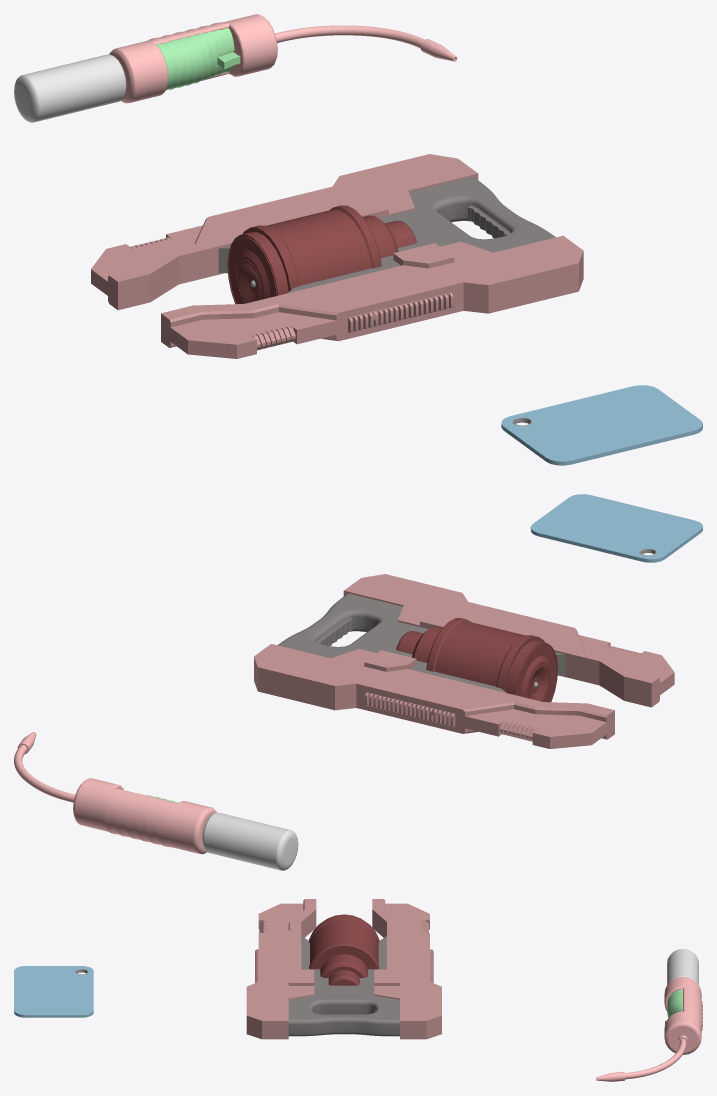
File: Item-Group.fbx
The picture shows the model from 3 angles, top to bottom: view 1: azimuth 30°, elevation 25°; view 2: azimuth 150°, elevation 25°; view 3: azimuth 270°, elevation 25°; orthographic projection. The views are drawn at different scales.
Parts seen in each view (by area): view 1: Laser_Side_Main (×2), Laser_Main_1, ID_Card_Main, Glue_Main1, Laser_Main_2, Glue_Material1, Glue_Handle, Laser_Side_Part; view 2: Laser_Side_Main (×2), Laser_Main_1, Glue_Main1, ID_Card_Main, Laser_Main_2, Glue_Material1, Laser_Side_Part; view 3: Laser_Side_Main (×2), Laser_Main_2, ID_Card_Main, Laser_Main_1, Glue_Main1, Glue_Material1, Glue_Handle.
Part boxes in pixels (x1,y1,x2,y2): Laser_Side_Main (×2): (91, 154, 583, 358); Laser_Main_1: (227, 205, 416, 304); ID_Card_Main: (501, 385, 702, 465); Glue_Main1: (109, 14, 457, 103); Laser_Main_2: (218, 177, 555, 292); Glue_Material1: (14, 54, 126, 122); Glue_Handle: (156, 28, 234, 90); Laser_Side_Part: (348, 292, 453, 332); Laser_Side_Main (×2): (254, 574, 674, 748); Laser_Main_1: (396, 618, 557, 702); Glue_Main1: (14, 732, 216, 854); ID_Card_Main: (530, 494, 702, 562); Laser_Main_2: (277, 593, 565, 692); Glue_Material1: (202, 812, 298, 870); Laser_Side_Part: (365, 692, 455, 726); Laser_Side_Main (×2): (246, 899, 441, 1039); Laser_Main_2: (288, 936, 399, 1036); ID_Card_Main: (14, 966, 93, 1017); Laser_Main_1: (309, 914, 379, 985); Glue_Main1: (596, 977, 702, 1081); Glue_Material1: (667, 949, 698, 985); Glue_Handle: (667, 989, 682, 1017).
Bounding box in the file's own units: 4.95 × 0.9327 × 8.84.
